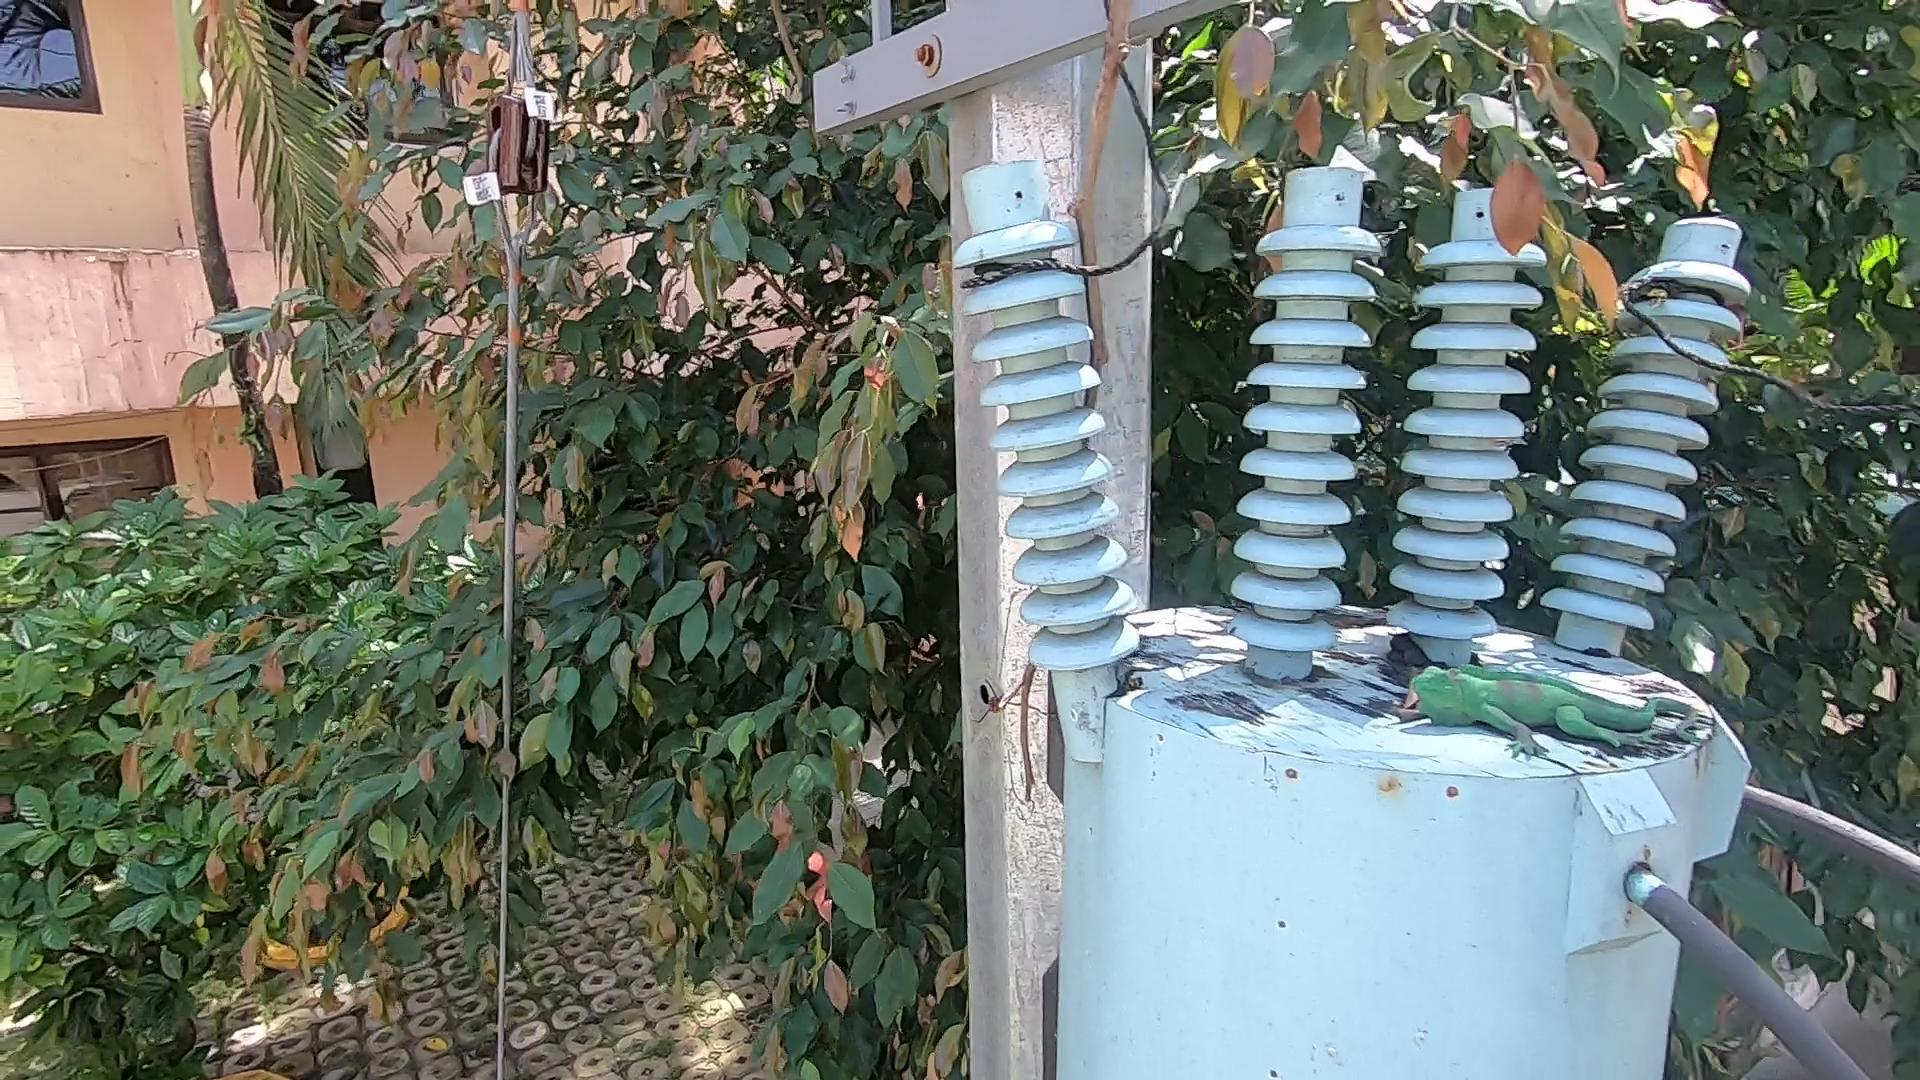branch with leaves: (1443, 80, 1635, 353)
leaf: (1385, 632, 1425, 725), (1112, 655, 1153, 705)
tree branch: (1031, 9, 1189, 804)
